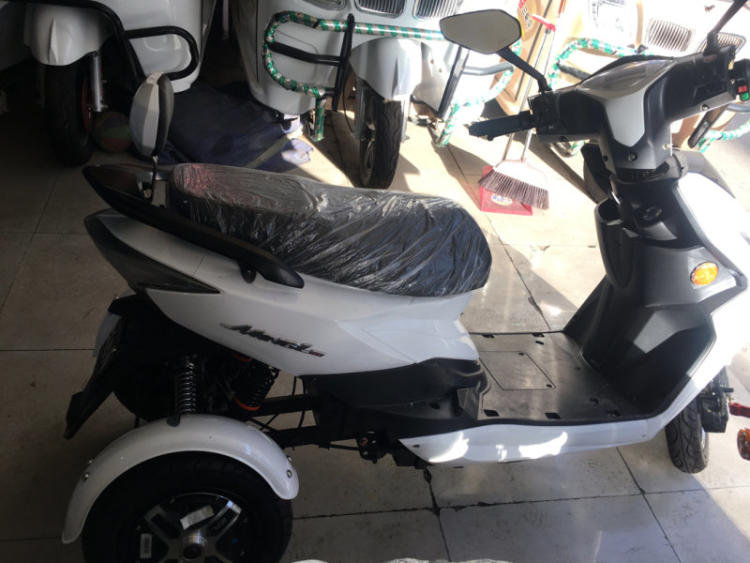电动车: (60, 1, 747, 562)
